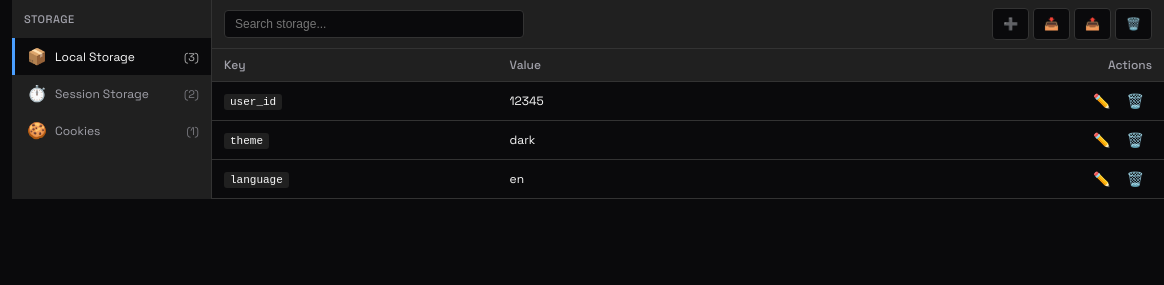
Test: StorageTab › should show add form when add button clicked
Click the button titled "Add new item". click: point(1011, 24)
box: [992,8,1029,40]
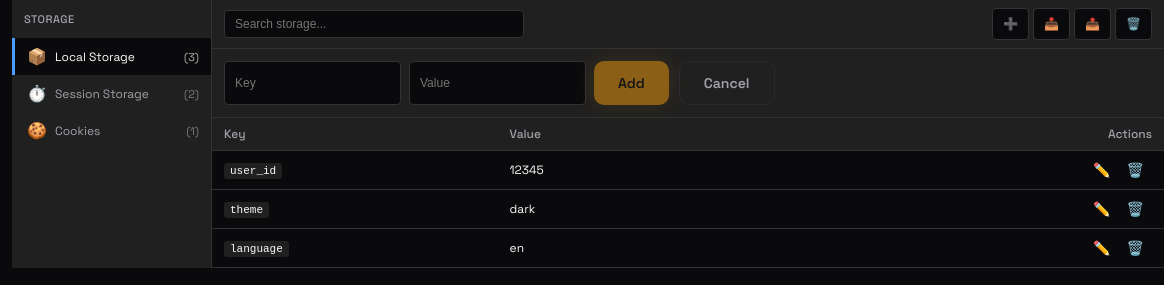
Expected: the field with placeholder "Key" is shown, [224,61,401,105]
Expected: the field with placeholder "Value" is shown, [409,61,586,105]
